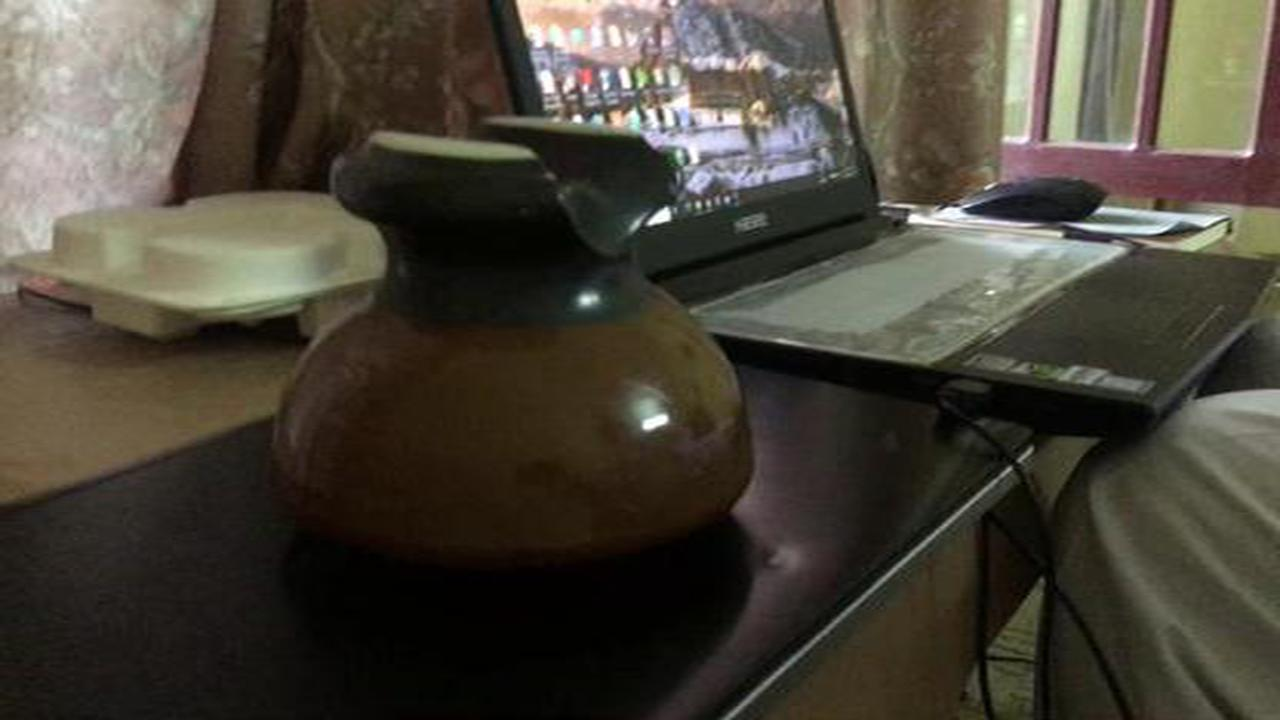insulator_pin: (241, 96, 779, 577)
